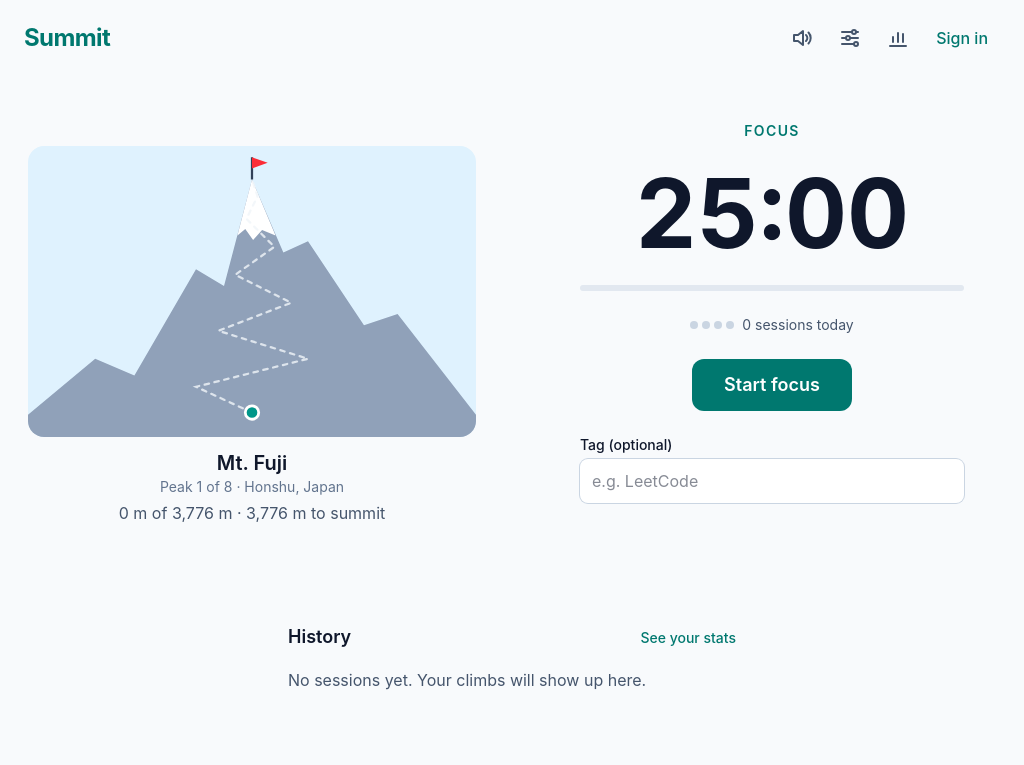
App: asking for notification permission › offers notifications after the first completed session
Click the button "Start focus": point(772, 384) [692, 358, 852, 410]
Wait 1500000 ms
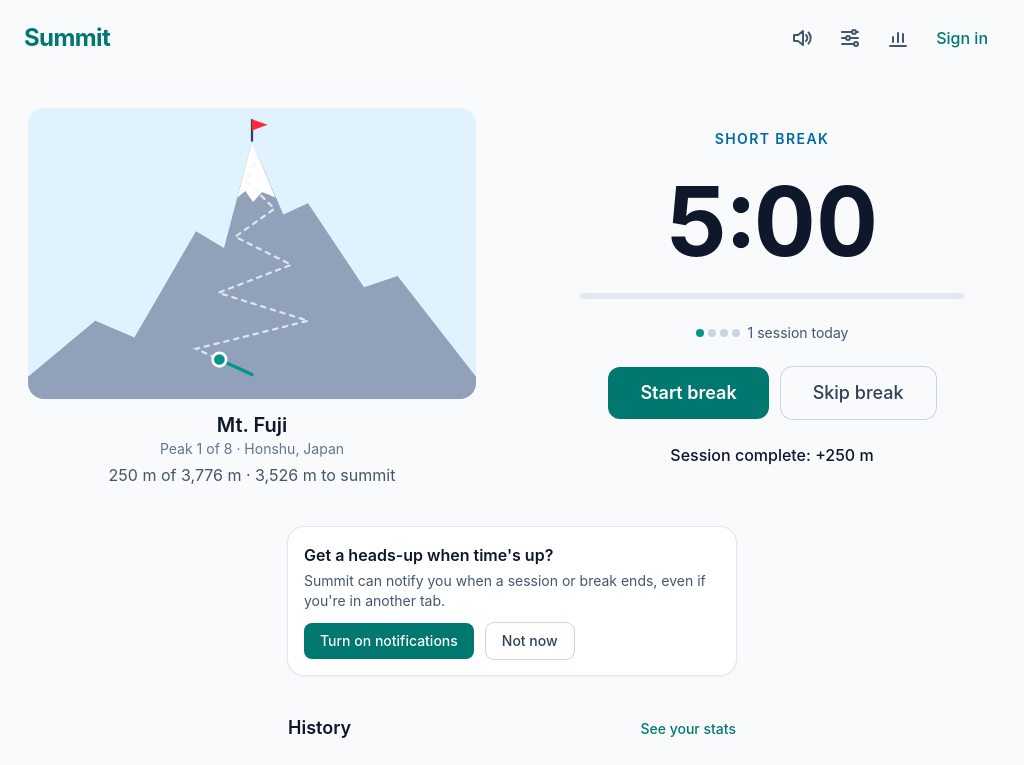
Result: the element "heads-up when time's up" is shown at [288, 527, 736, 675]
